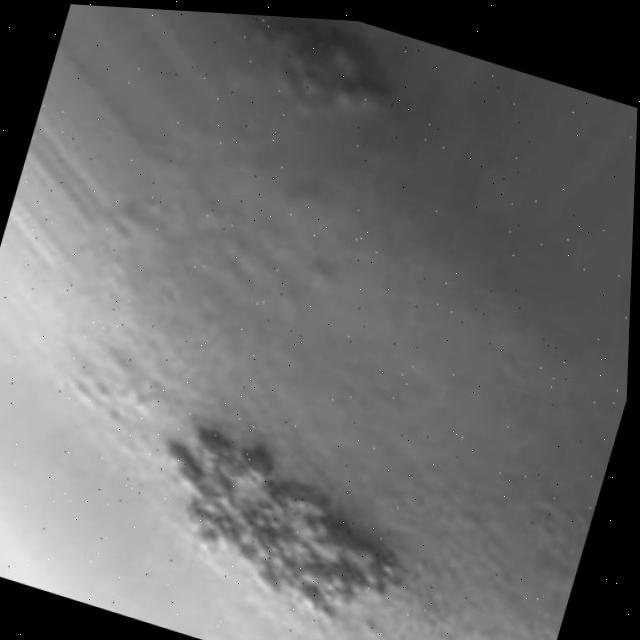Shingles: (147, 410, 438, 633), (255, 15, 399, 134)
